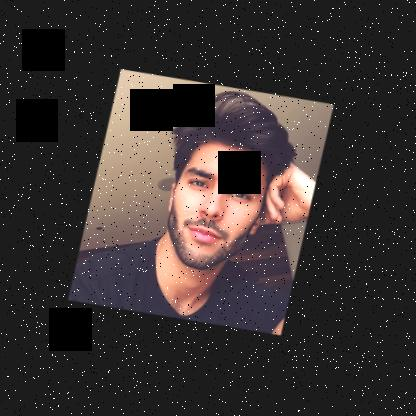Male: (156, 135, 280, 280)
